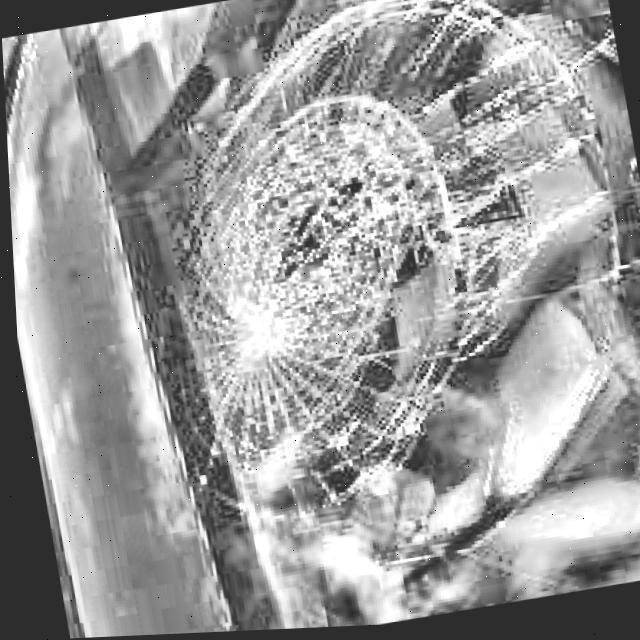glass_shatter: (166, 83, 480, 430)
